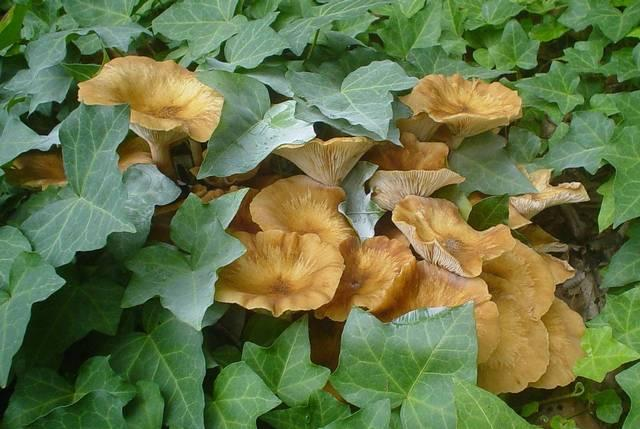edible_mushroom: (230, 132, 557, 335), (468, 244, 596, 398), (76, 53, 224, 182), (404, 74, 526, 148)
